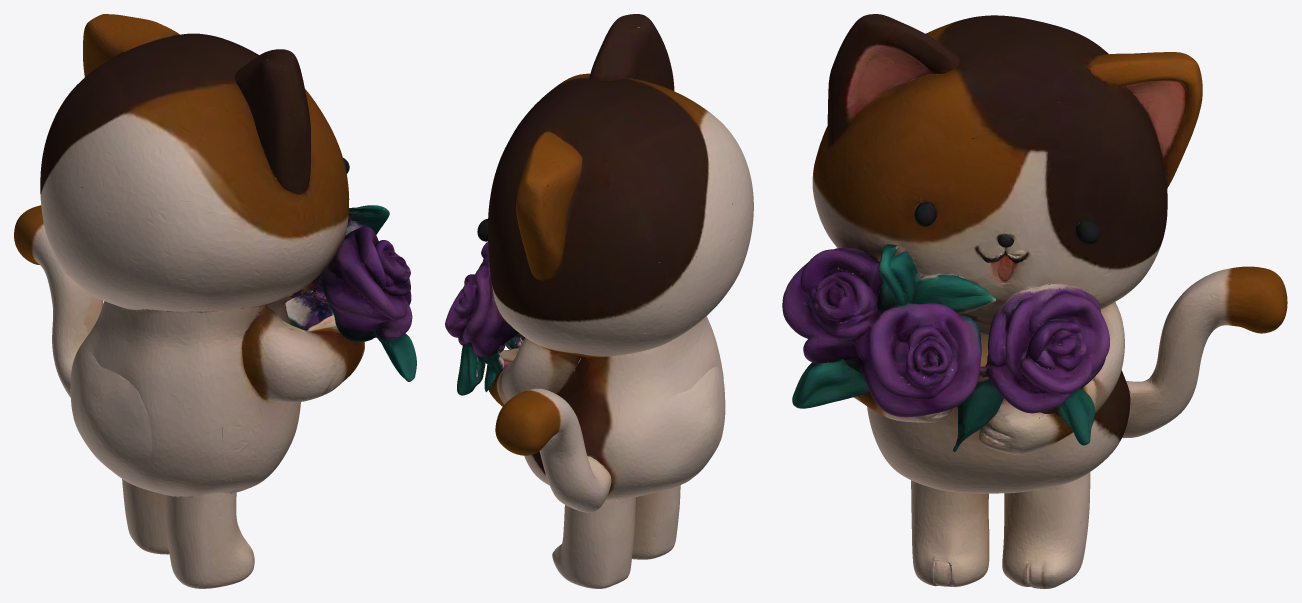
Rendered from a_cat_with_rose_0725061647_generate_glb-optimized.glb.
The picture shows the model from 3 angles, left to right: view 1: azimuth 30°, elevation 25°; view 2: azimuth 150°, elevation 25°; view 3: azimuth 270°, elevation 25°; orthographic projection. The views are drawn at different scales.
Bounding box in the file's own units: 0.5796 × 1 × 0.7948.
Materials: 1 (1 with a texture image).
